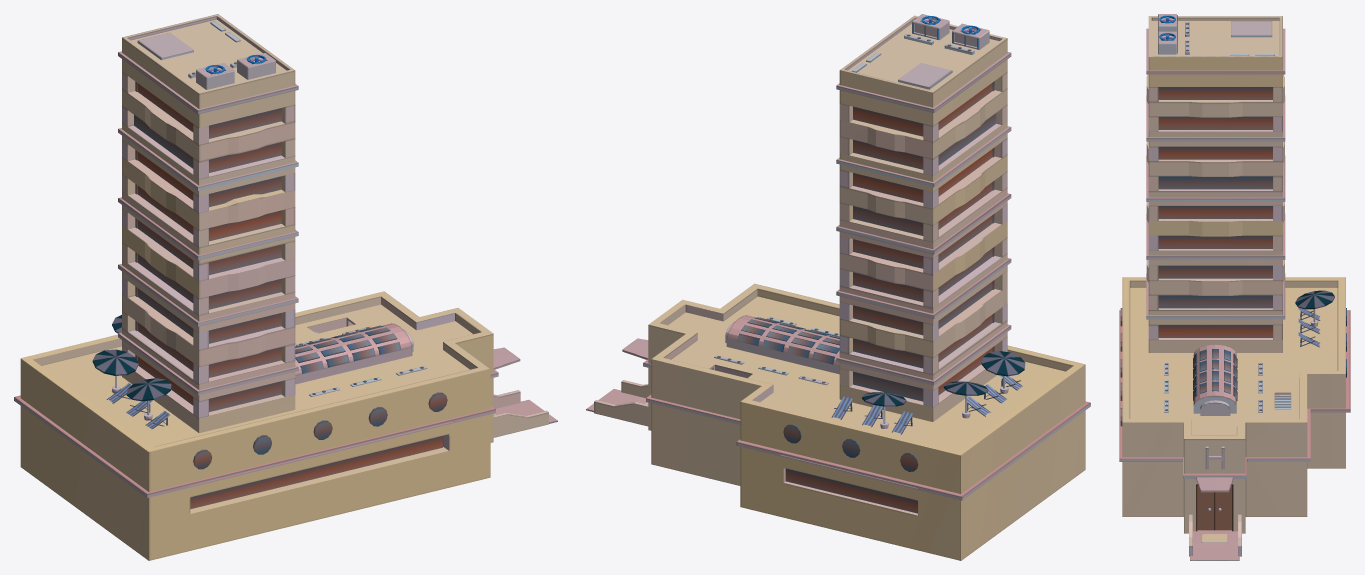
Rendered from hotel.gltf.
3 views of the same model, side by side, from view 1: azimuth 30°, elevation 25°; view 2: azimuth 150°, elevation 25°; view 3: azimuth 270°, elevation 25° (orthographic). The views are drawn at different scales.
Visible parts, largest first — view 1: node-0; view 2: node-0; view 3: node-0.
Part boxes in pixels (left/top/right/bottom): node-0: left=14, top=14, right=557, bottom=560; node-0: left=586, top=14, right=1090, bottom=560; node-0: left=1119, top=14, right=1350, bottom=560.
Bounding box in the file's own units: 676 × 645 × 345.
Materials: 1 (1 with a texture image).
